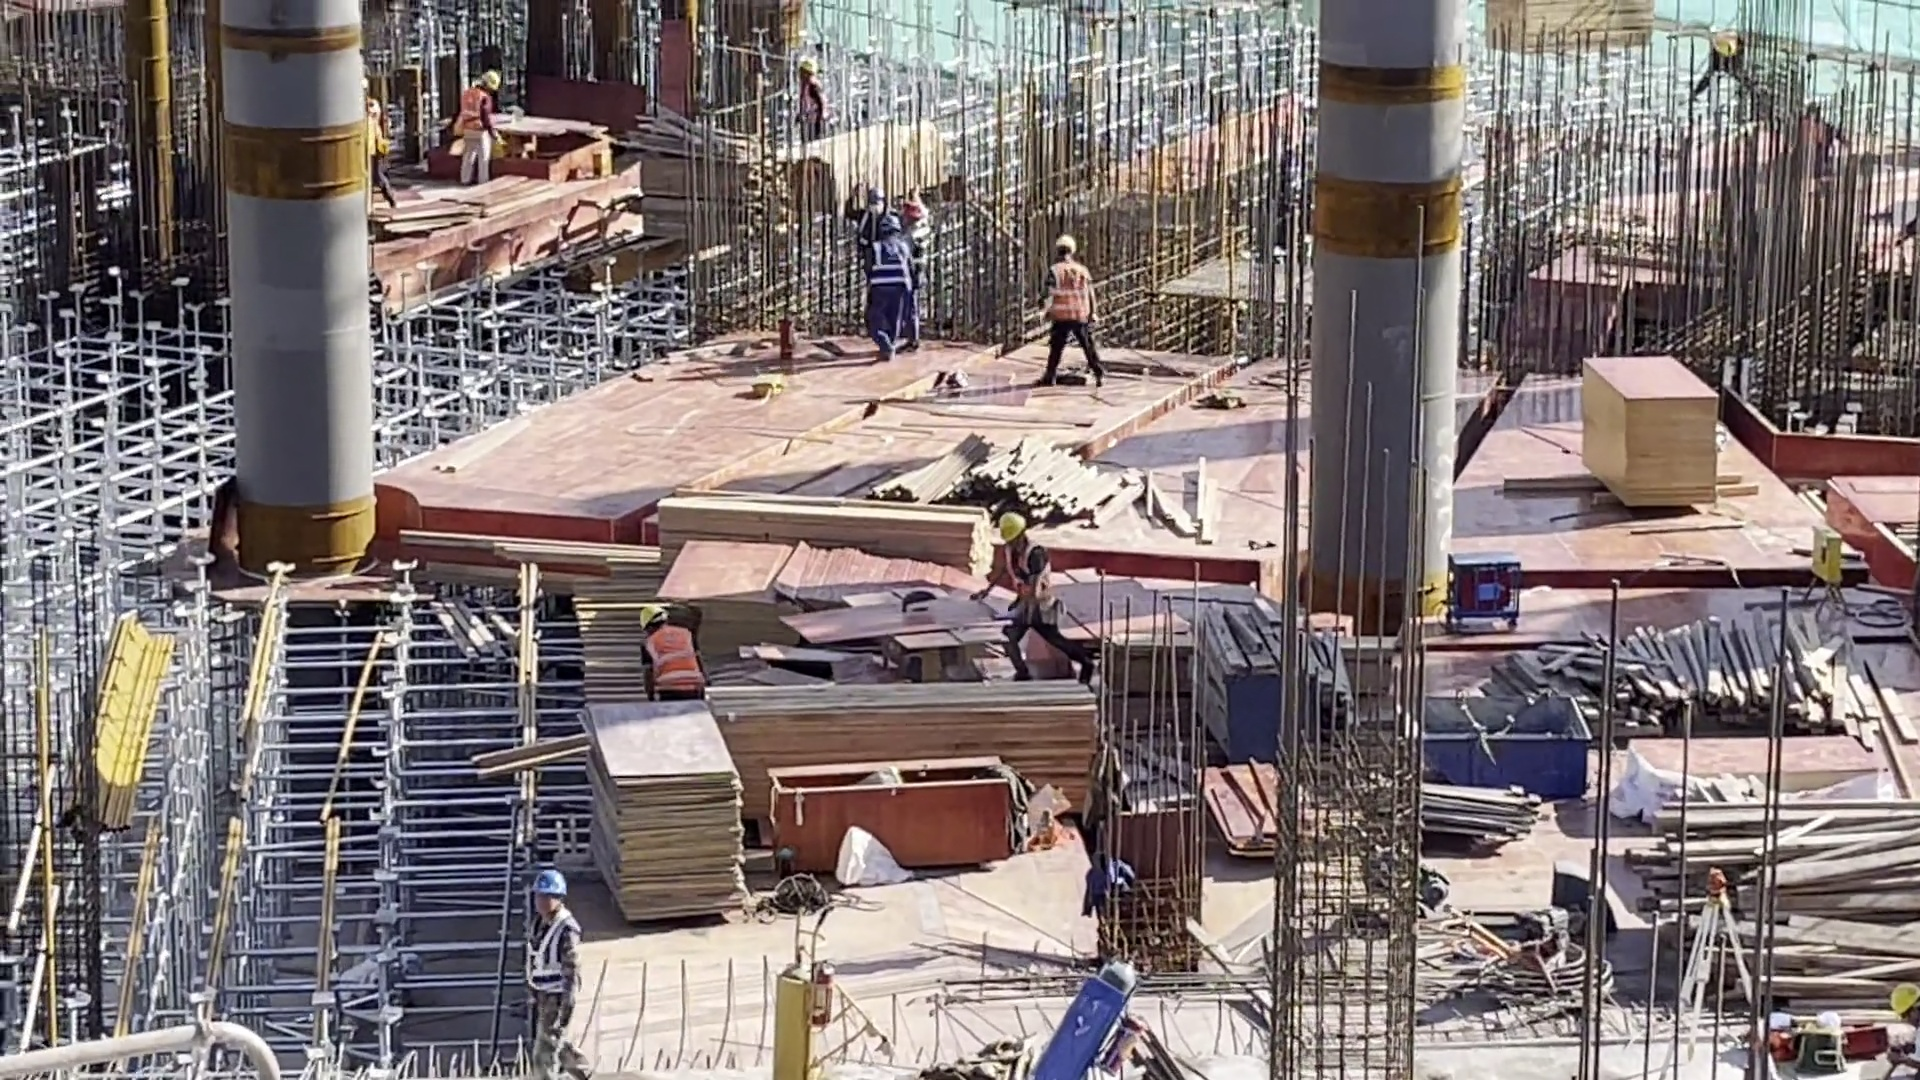helmet: (1889, 980, 1920, 1019), (998, 513, 1030, 549), (528, 872, 569, 897), (636, 604, 665, 628), (1051, 235, 1080, 256), (880, 215, 905, 236), (480, 69, 500, 92), (800, 56, 817, 76), (866, 189, 883, 206)
person: (990, 508, 1085, 677), (519, 869, 590, 1080), (1033, 234, 1106, 391), (865, 218, 911, 365), (635, 602, 702, 700), (457, 67, 503, 189), (899, 192, 940, 299), (1694, 24, 1761, 87), (366, 89, 398, 211), (842, 183, 897, 249), (797, 54, 828, 121)
vest: (524, 911, 577, 1005), (1006, 547, 1062, 624), (649, 629, 698, 690), (1043, 266, 1089, 324), (870, 240, 909, 293), (459, 89, 486, 133), (798, 79, 827, 121), (910, 221, 933, 272)
